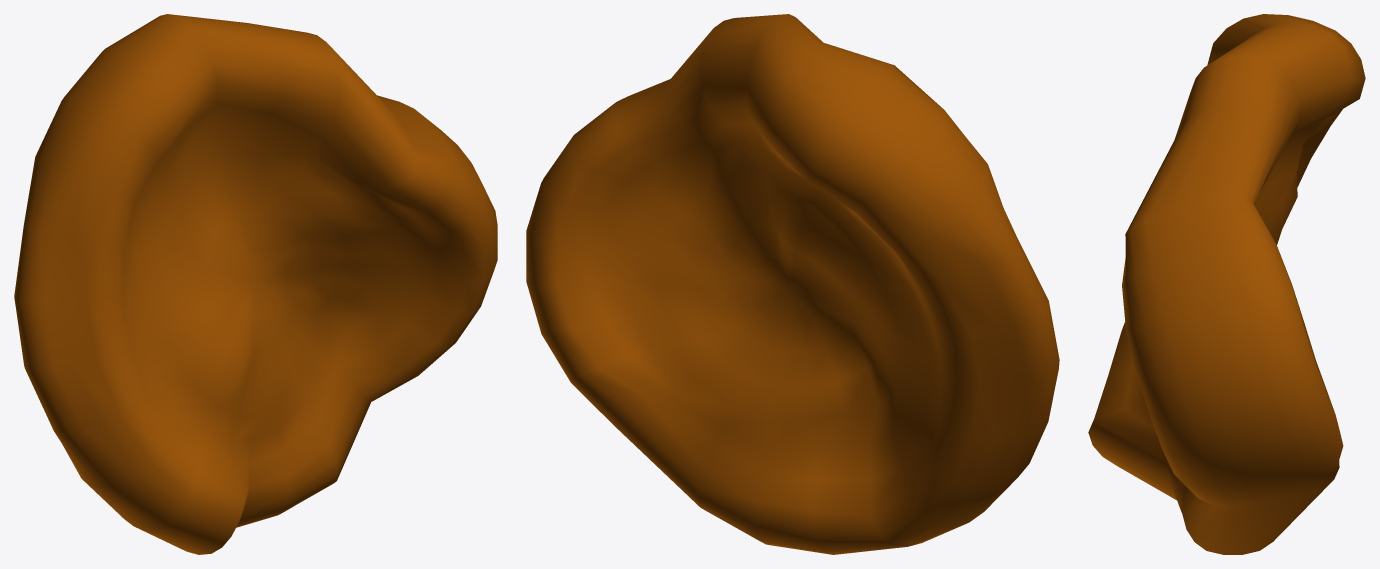
The model's file is SmallHybrid.fbx.
3 views of the same model, side by side, from view 1: azimuth 30°, elevation 25°; view 2: azimuth 150°, elevation 25°; view 3: azimuth 270°, elevation 25° (orthographic). The views are drawn at different scales.
Visible parts, largest first — view 1: Sphere; view 2: Sphere; view 3: Sphere.
Boxes of the visible parts, bbox=[...] form: Sphere: bbox=[14, 14, 497, 554]; Sphere: bbox=[526, 14, 1059, 554]; Sphere: bbox=[1088, 14, 1365, 554].
Size of the model in its own units: 1.97 by 1.98 by 1.01.
